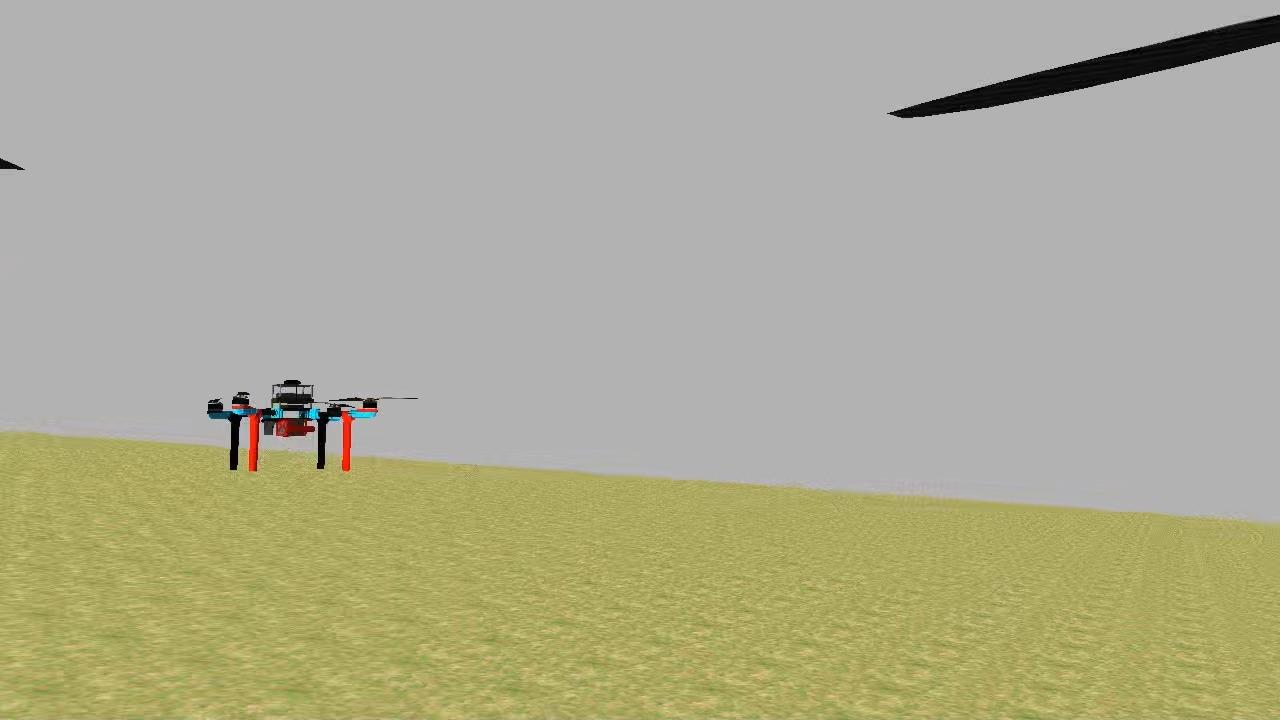UAV: (204, 374, 382, 474)
